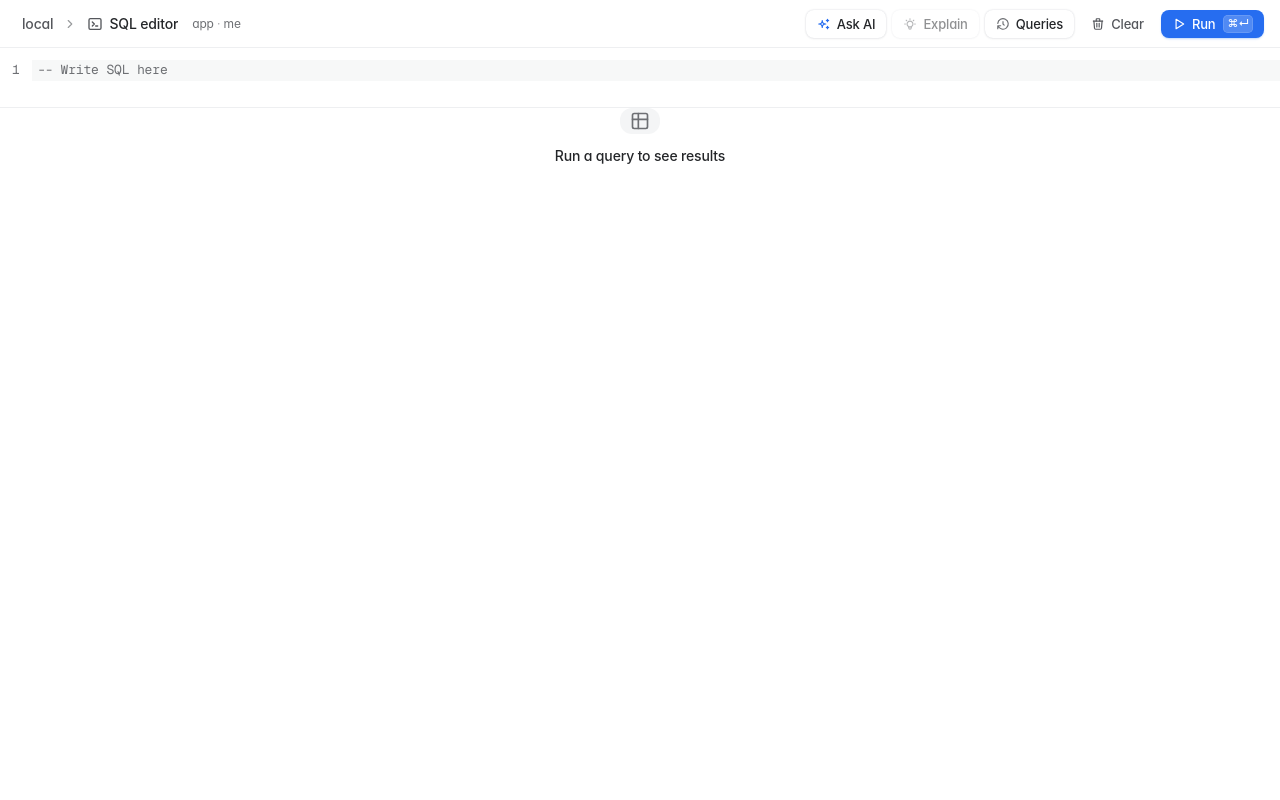
it: asking AI about the query in the editor › does not offer editing when the editor holds only comments
Check: the element with test id "sql-editor" is shown, box x1=0 y1=48 x2=1279 y2=107
Click the button "Ask AI".
click(846, 24)  # box x1=806 y1=10 x2=886 y2=38
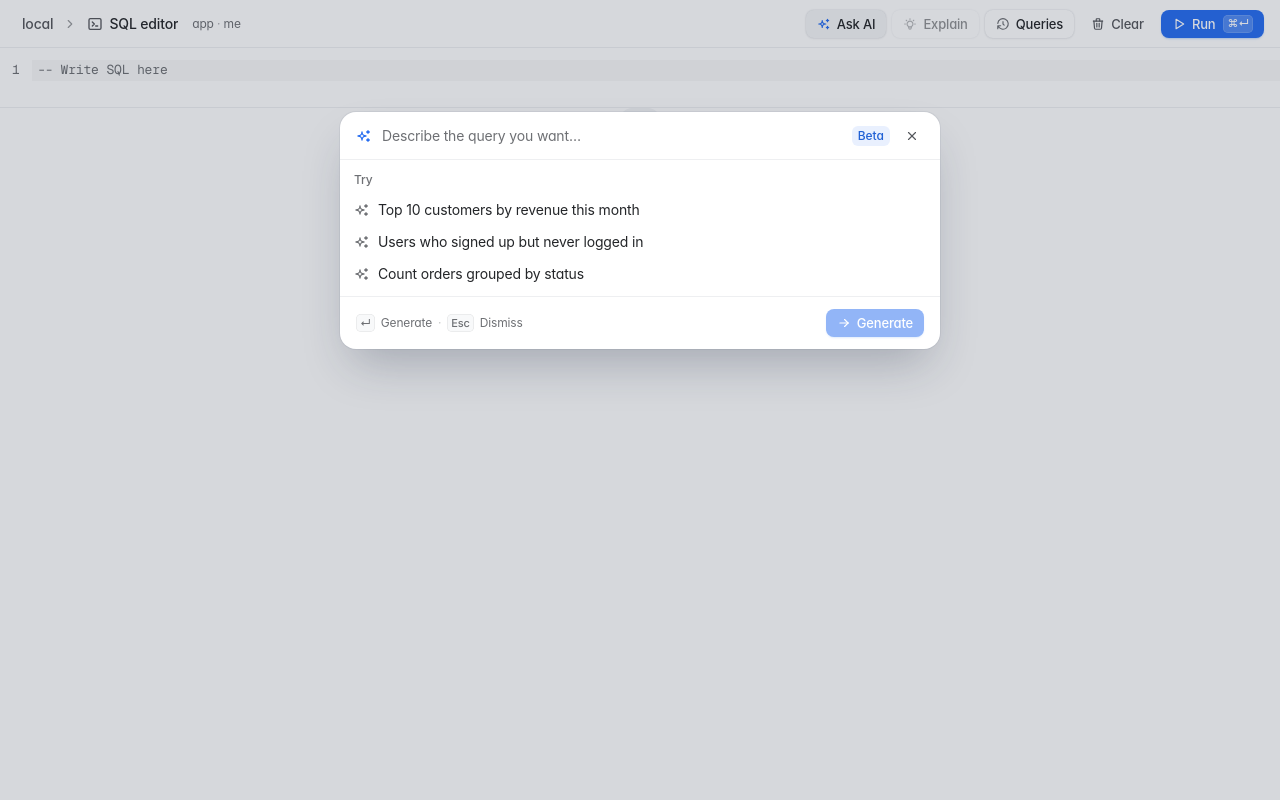
Check: the field with placeholder "Describe the query you want…" is shown, box x1=382 y1=126 x2=842 y2=146
